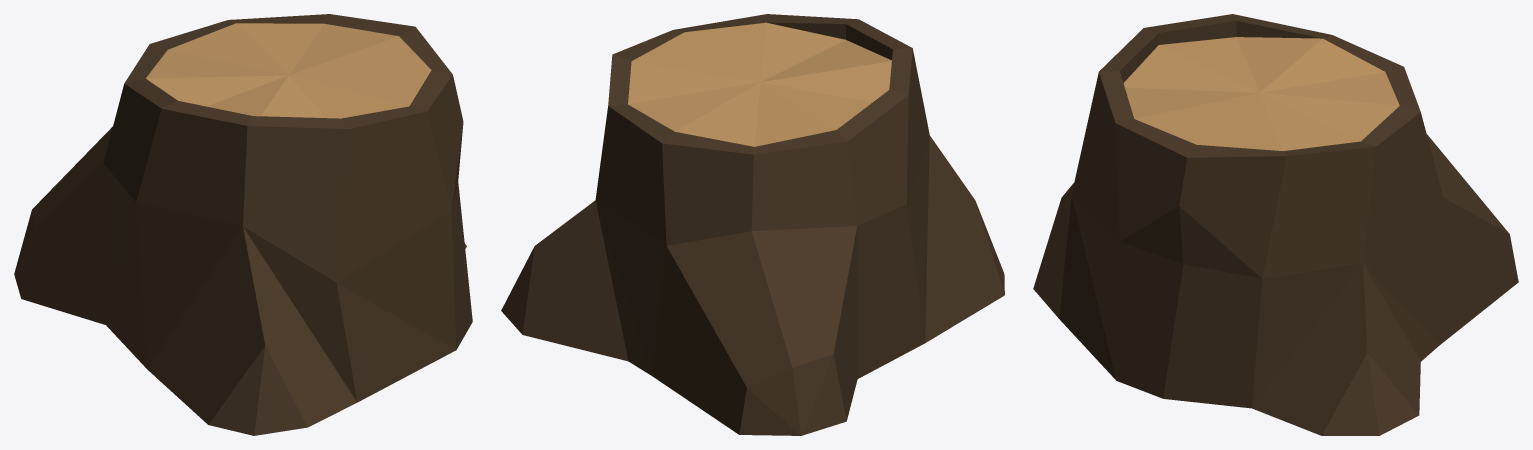
The picture shows the model from 3 angles, left to right: view 1: azimuth 30°, elevation 25°; view 2: azimuth 150°, elevation 25°; view 3: azimuth 270°, elevation 25°; orthographic projection. The views are drawn at different scales.
Visible parts, largest first — view 1: Stump.02; view 2: Stump.02; view 3: Stump.02.
Boxes of the visible parts, x1,y1,x2,y2 form: Stump.02: (14, 14, 472, 435); Stump.02: (501, 14, 1004, 435); Stump.02: (1033, 14, 1518, 435).
Bounding box in the file's own units: 0.4439 × 0.2873 × 0.4864.
2 materials, 2 textured.
